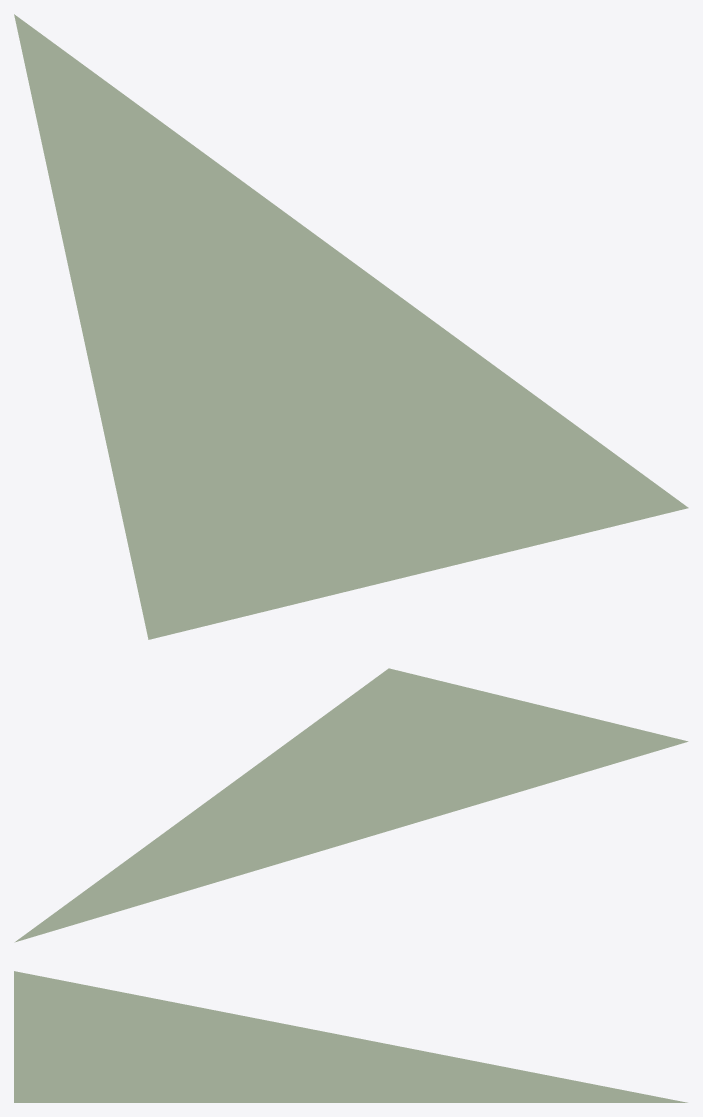
The model's file is SM_MPRR_Terrain_-5_1.fbx.
3 views of the same model, one above another, from view 1: azimuth 30°, elevation 25°; view 2: azimuth 150°, elevation 25°; view 3: azimuth 270°, elevation 25° (orthographic). The views are drawn at different scales.
Visible parts, largest first — view 1: SM_MPRR_Terrain_-5_1; view 2: SM_MPRR_Terrain_-5_1; view 3: SM_MPRR_Terrain_-5_1.
Part boxes in pixels (x1=…): SM_MPRR_Terrain_-5_1: x1=14, y1=14, x2=688, y2=639; SM_MPRR_Terrain_-5_1: x1=14, y1=668, x2=688, y2=942; SM_MPRR_Terrain_-5_1: x1=14, y1=971, x2=687, y2=1102.
Size of the model in its own units: 3426 by 7410 by 0.1386.
